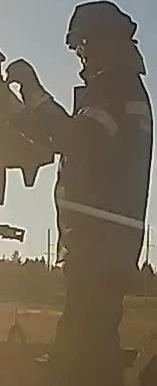gloves: (2, 54, 54, 109)
vest: (53, 80, 153, 273)
